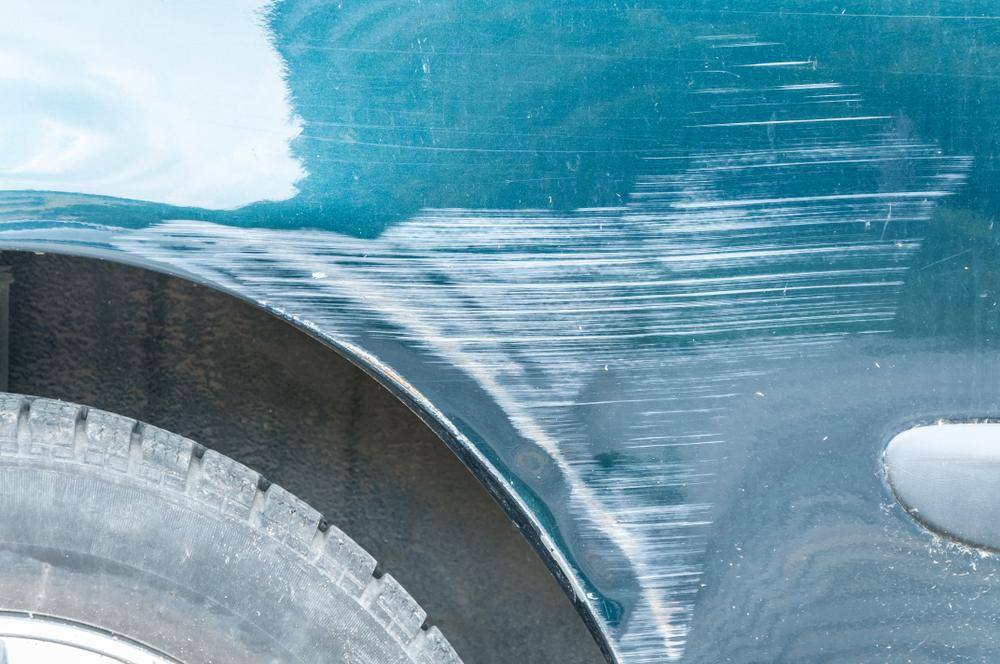scratch: (101, 15, 978, 664)
